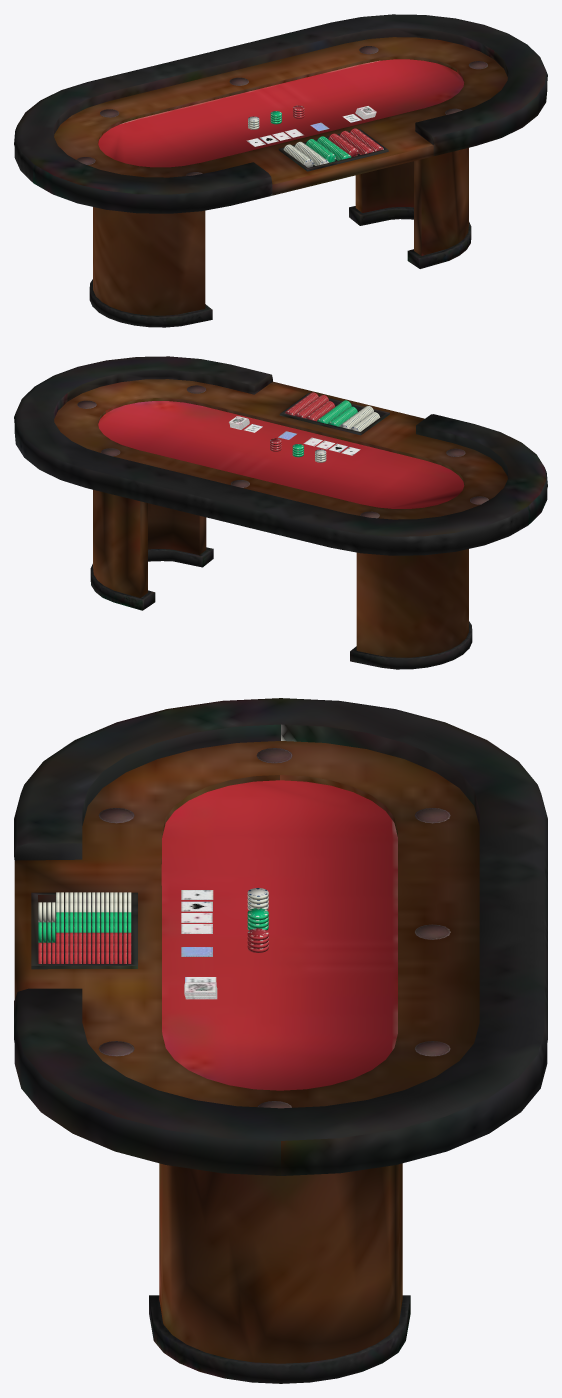
File: poker-table--2.gltf
3 renders of one model, top to bottom at view 1: azimuth 30°, elevation 25°; view 2: azimuth 150°, elevation 25°; view 3: azimuth 270°, elevation 25°, orthographic. The views are drawn at different scales.
Parts seen in each view (by area): view 1: prop; view 2: prop; view 3: prop.
Part boxes in pixels (left/top/right/bottom): prop: left=14, top=14, right=547, bottom=327; prop: left=14, top=356, right=547, bottom=669; prop: left=14, top=698, right=547, bottom=1383.
Bounding box in the file's own units: 2.51 × 0.7999 × 1.27.
1 material, 1 textured.
